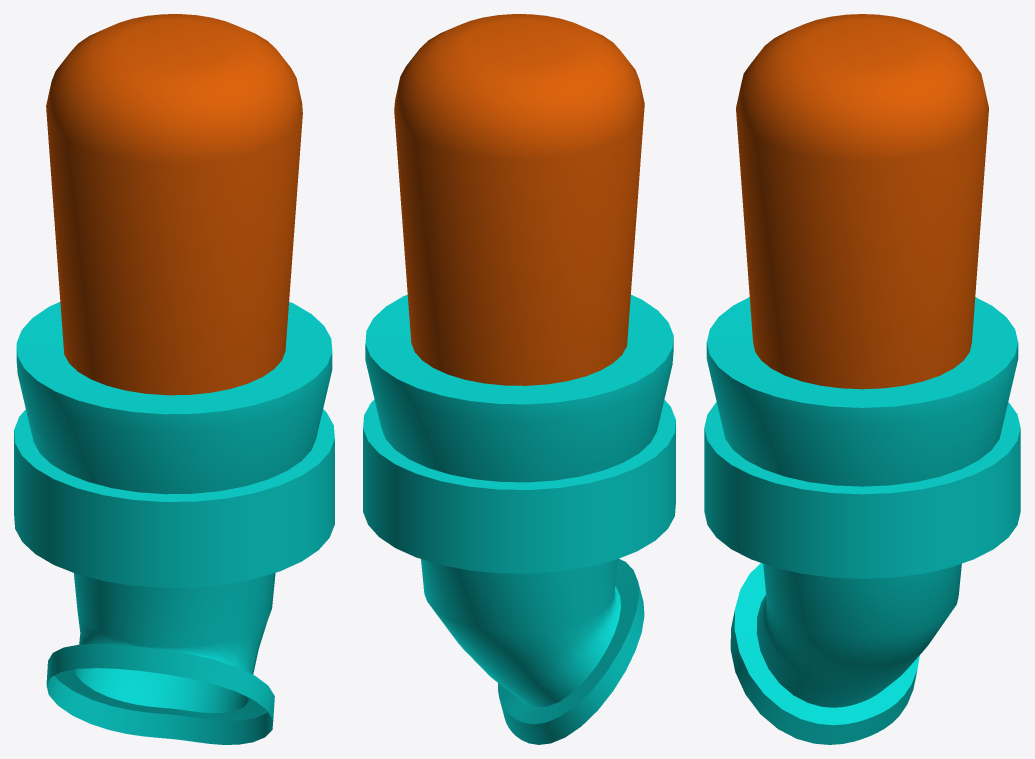
File: LightBUlbTest.fbx
The picture shows the model from 3 angles, left to right: view 1: azimuth 30°, elevation 25°; view 2: azimuth 150°, elevation 25°; view 3: azimuth 270°, elevation 25°; orthographic projection. The views are drawn at different scales.
Visible parts, largest first — view 1: Spiral.001; view 2: Spiral.001; view 3: Spiral.001.
Boxes of the visible parts, x1,y1,x2,y2 form: Spiral.001: (14,14,334,744); Spiral.001: (363,14,675,744); Spiral.001: (704,14,1020,744).
Size of the model in its own units: 10.04 by 24.12 by 10.04.
